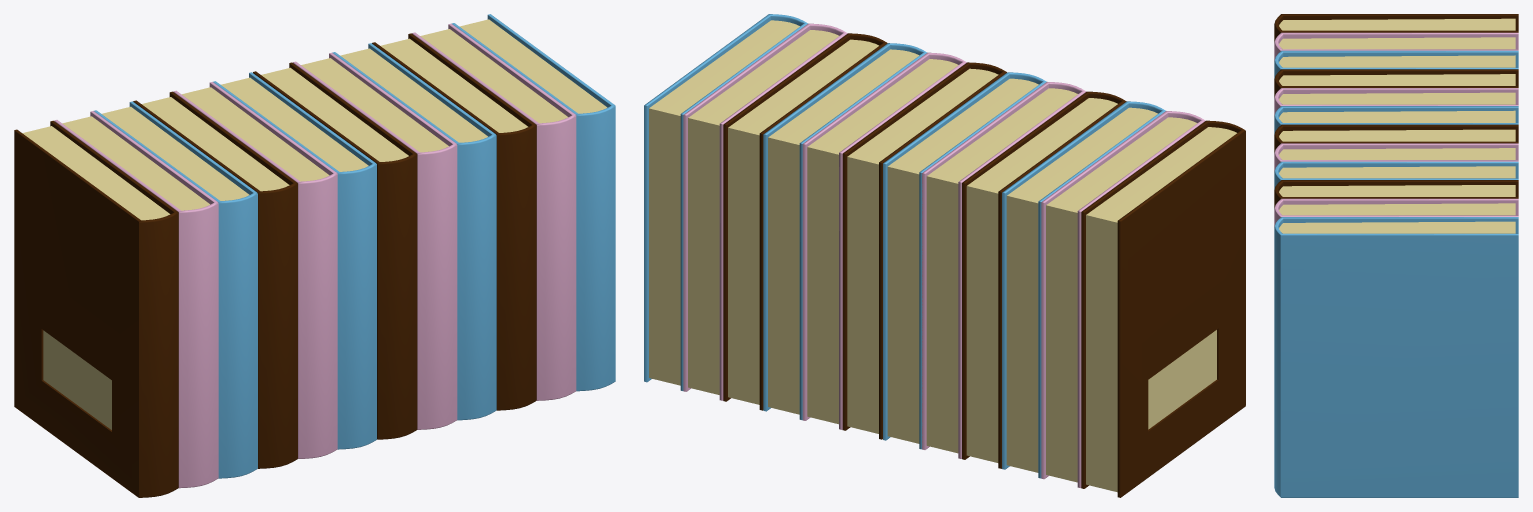
Rendered from book2.fbx.
The picture shows the model from 3 angles, left to right: view 1: azimuth 30°, elevation 25°; view 2: azimuth 150°, elevation 25°; view 3: azimuth 270°, elevation 25°; orthographic projection. The views are drawn at different scales.
Visible parts, largest first — view 1: Cube.011, Cube.005, Cube.003, Cube, Cube.009, Cube.001, Cube.008, Cube.006, Cube.010, Cube.002, Cube.004, Cube.007; view 2: Cube.011, Cube.005, Cube.003, Cube, Cube.009, Cube.001, Cube.008, Cube.006, Cube.010, Cube.004, Cube.002, Cube.007; view 3: Cube.002, Cube.005, Cube.010, Cube.007, Cube.011, Cube.003, Cube.004, Cube.008, Cube, Cube.001, Cube.009, Cube.006.
Boxes of the visible parts, x1,y1,x2,y2 form: Cube.011: (14,120,178,497); Cube.005: (253,62,417,439); Cube.003: (372,33,536,410); Cube: (412,23,576,400); Cube.009: (54,111,218,488); Cube.001: (293,52,457,429); Cube.008: (133,91,297,468); Cube.006: (173,82,337,458); Cube.010: (94,101,257,478); Cube.002: (451,14,615,391); Cube.004: (332,43,496,420); Cube.007: (213,72,376,449); Cube.011: (1081,120,1245,497); Cube.005: (842,62,1006,439); Cube.003: (723,33,887,410); Cube: (683,23,847,400); Cube.009: (1041,111,1205,487); Cube.001: (802,52,966,429); Cube.008: (962,91,1126,468); Cube.006: (922,82,1086,458); Cube.010: (1002,101,1165,478); Cube.004: (763,43,926,420); Cube.002: (644,14,807,390); Cube.007: (883,72,1046,449); Cube.002: (1274,217,1518,497); Cube.005: (1274,124,1518,152); Cube.010: (1274,50,1518,78); Cube.007: (1274,106,1518,134); Cube.011: (1274,14,1518,41); Cube.003: (1274,180,1518,207); Cube.004: (1274,161,1518,189); Cube.008: (1274,69,1518,97); Cube: (1274,198,1518,226); Cube.001: (1274,143,1518,170); Cube.009: (1274,32,1518,60); Cube.006: (1274,88,1518,115).
Size of the model in its own units: 467 by 259 by 218.
